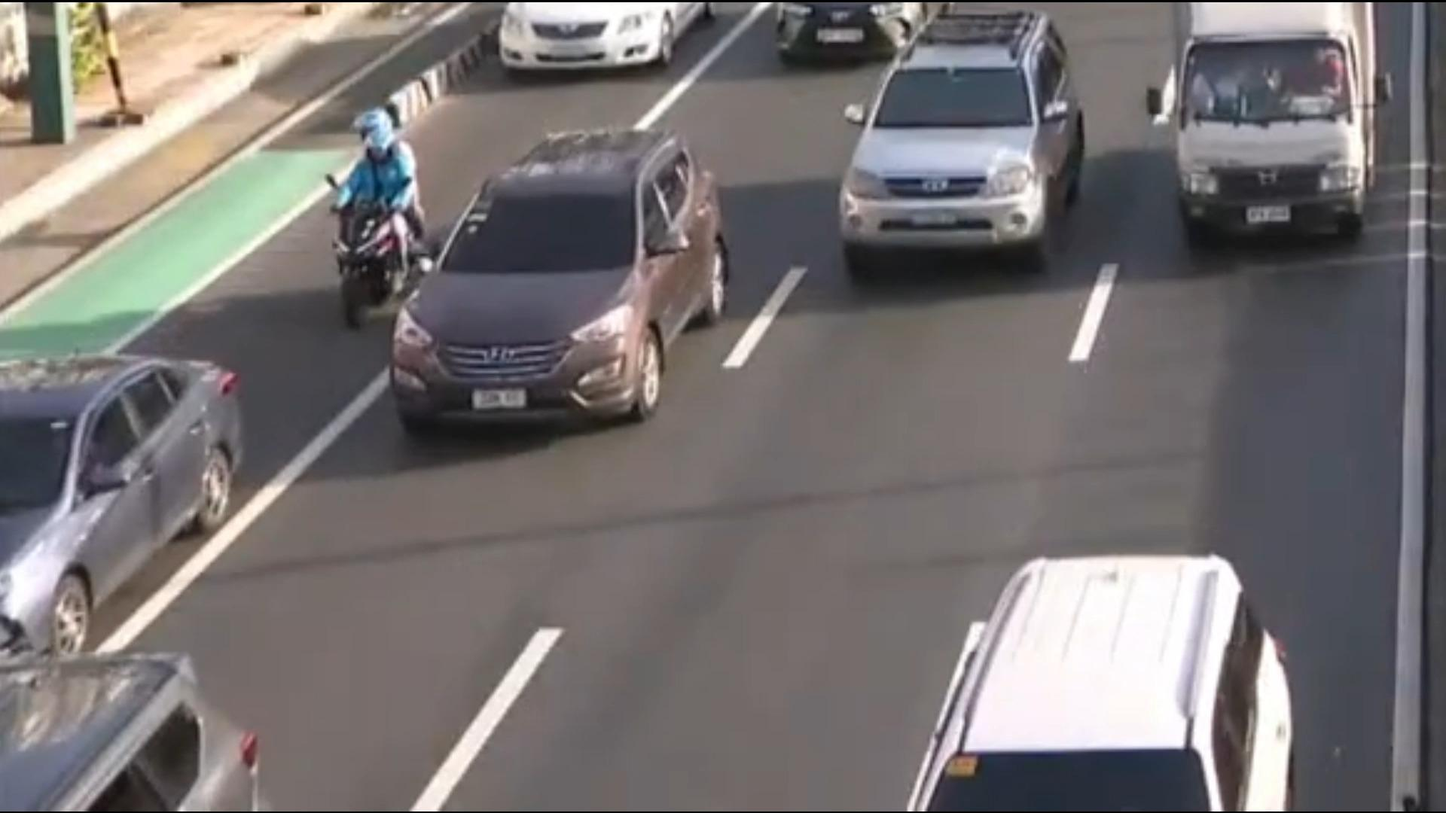Motorcycle: (307, 109, 422, 333)
SUV: (384, 128, 727, 446), (904, 555, 1301, 813), (836, 4, 1090, 282)
Sedan: (0, 335, 269, 640), (0, 659, 303, 813), (480, 0, 732, 88)
Truck: (1156, 0, 1393, 265)
